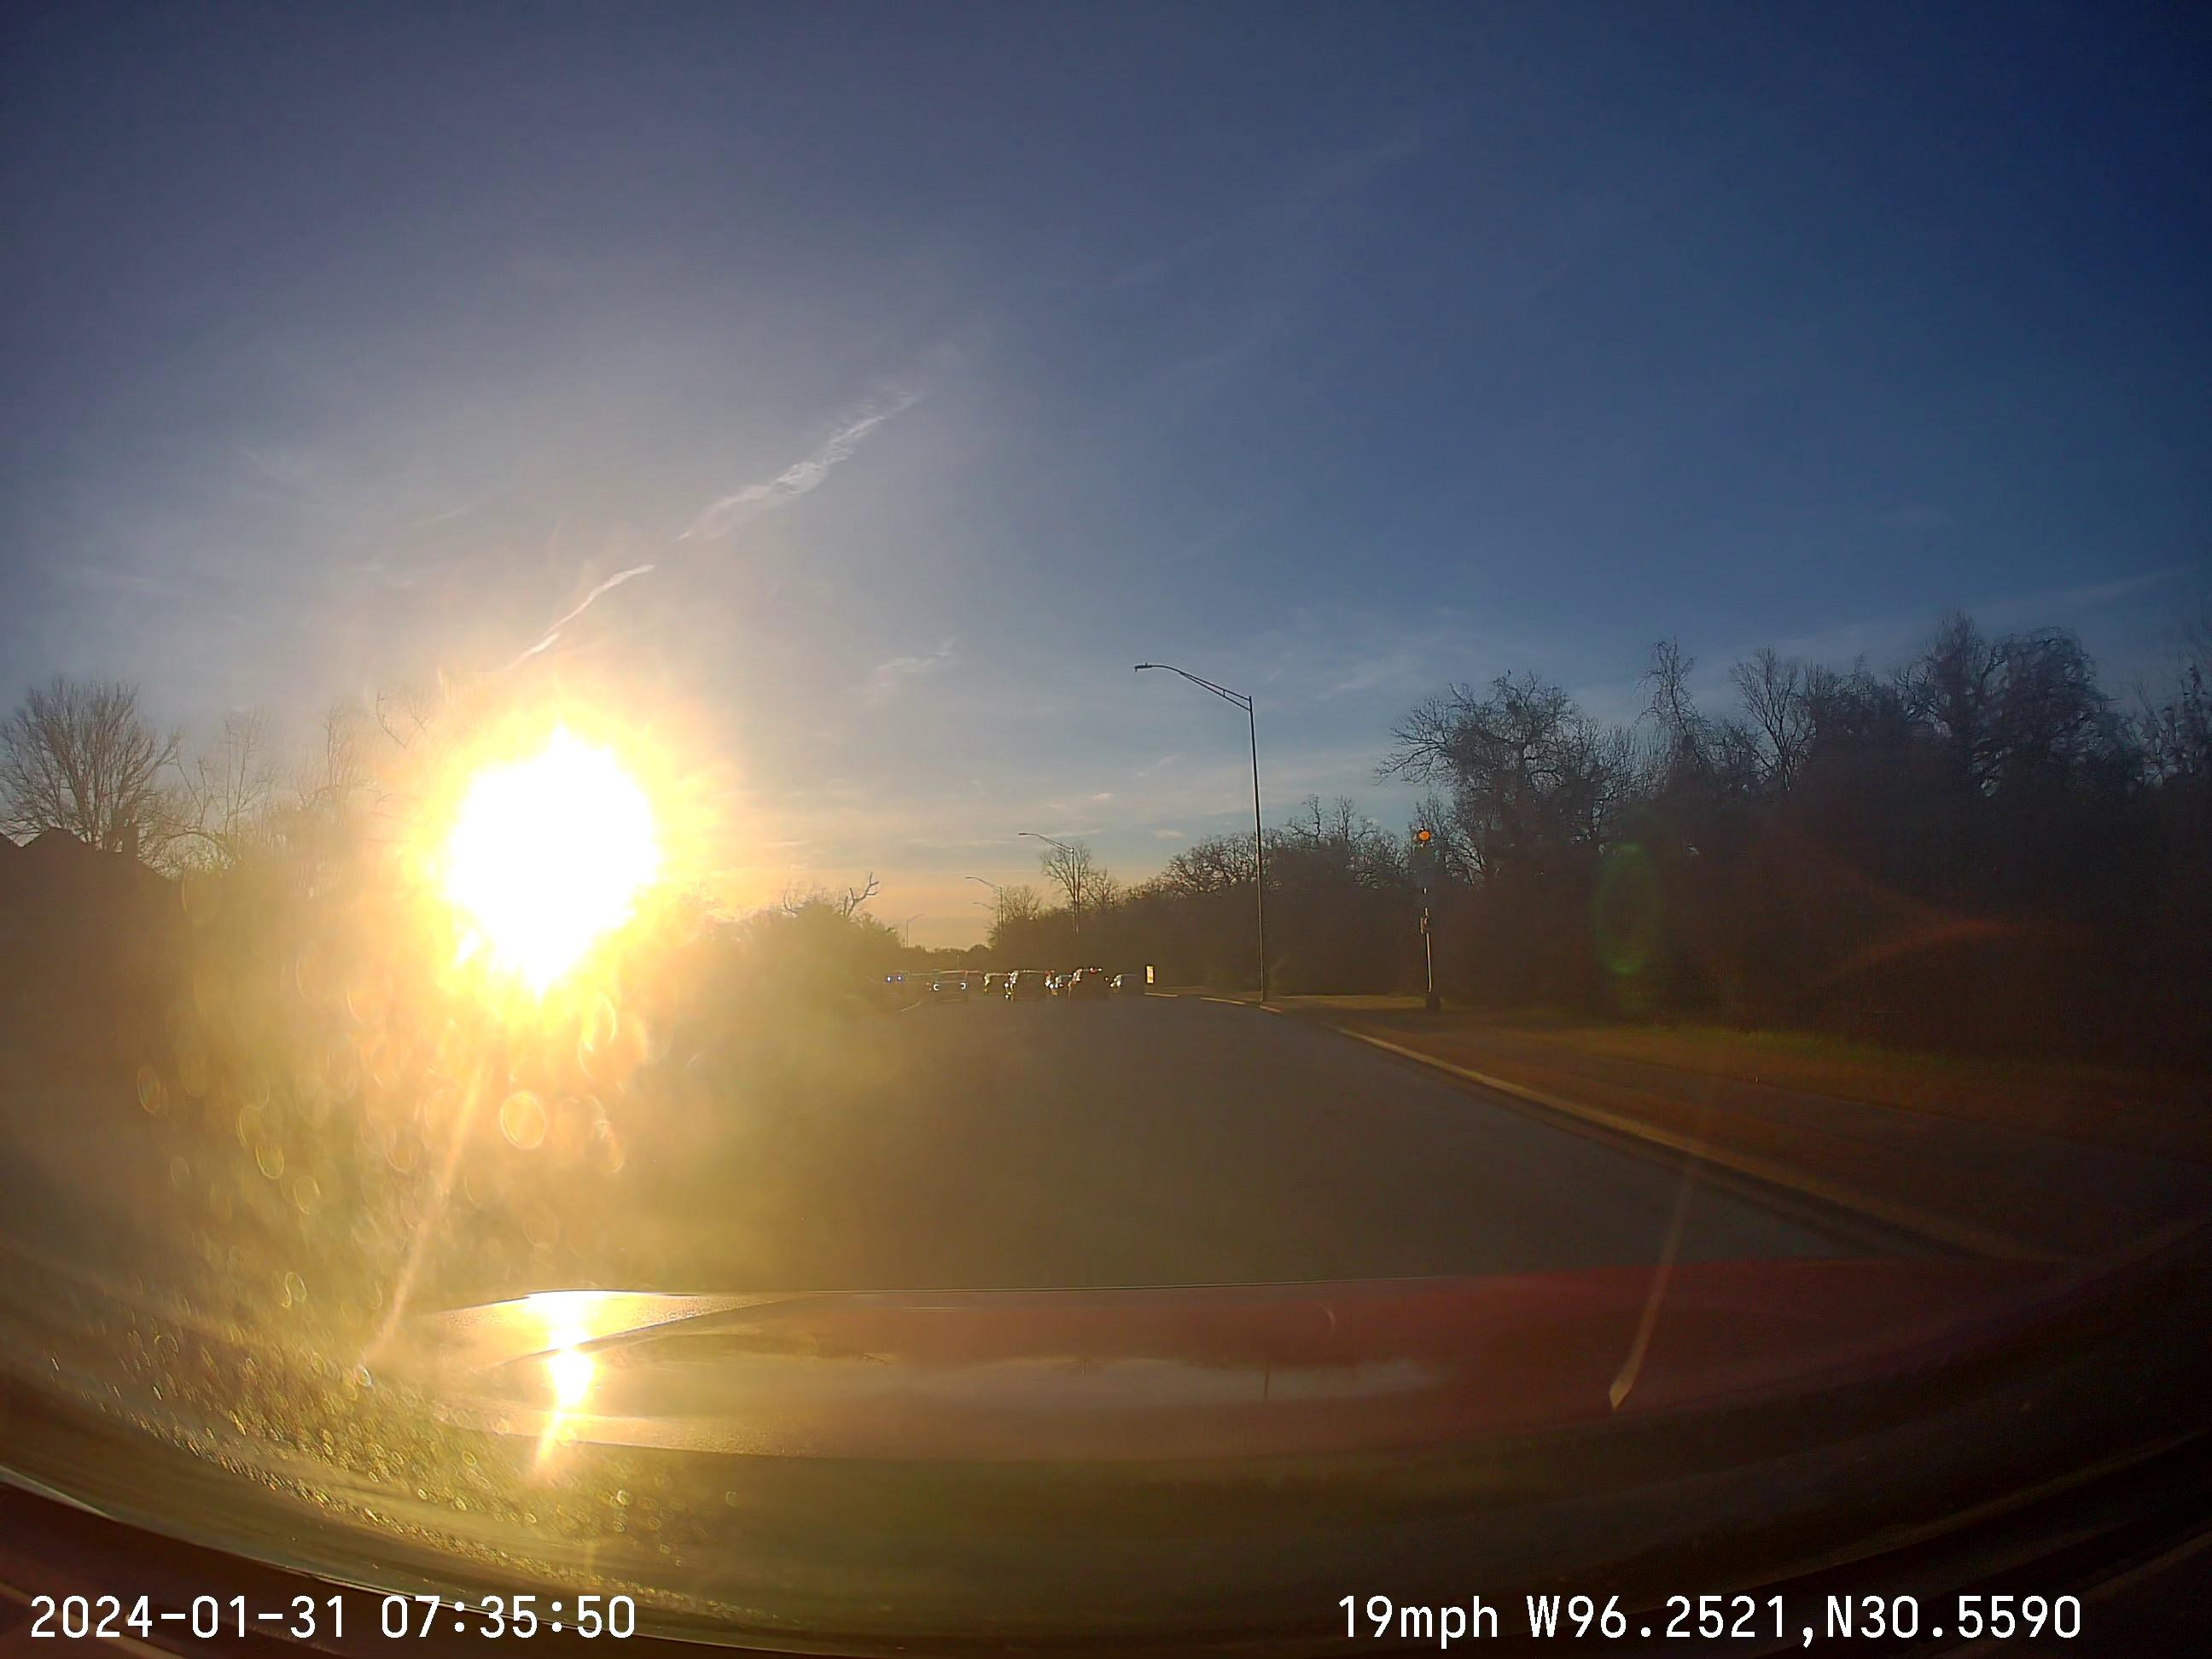car: (0, 838, 2212, 1650)
truck: (0, 838, 2212, 1650)
